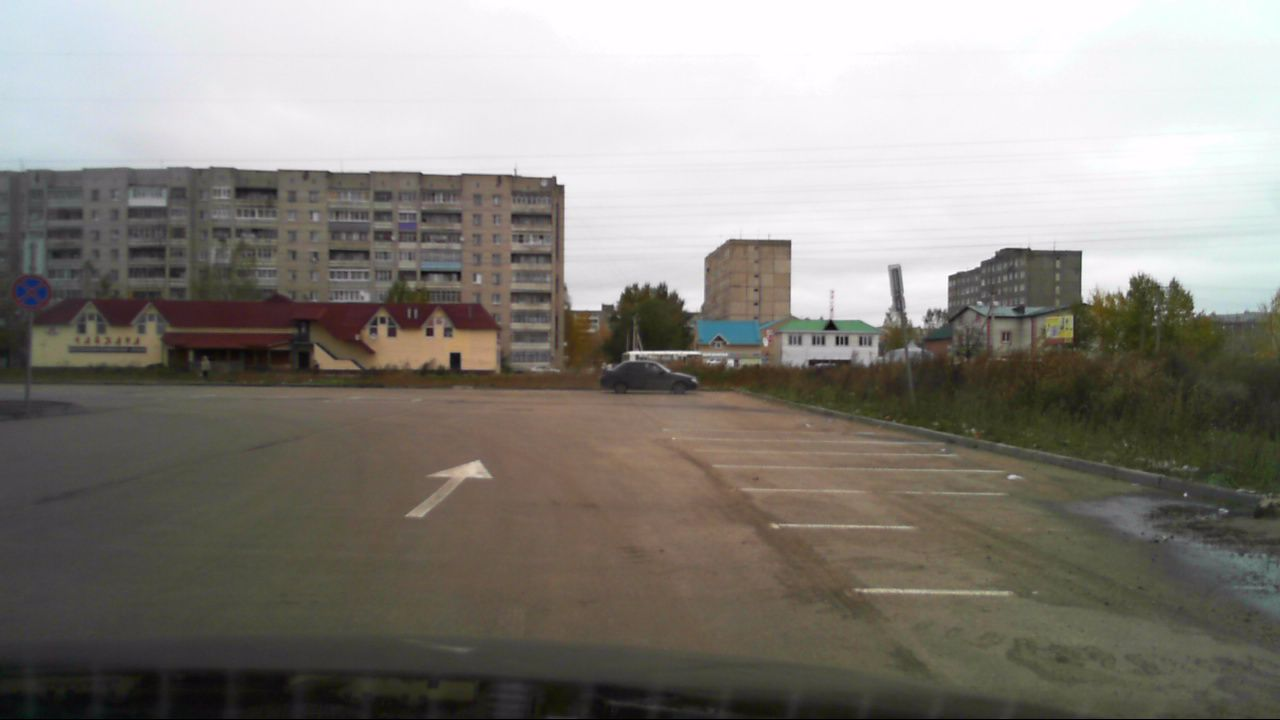No Parking: (12, 276, 47, 310)
